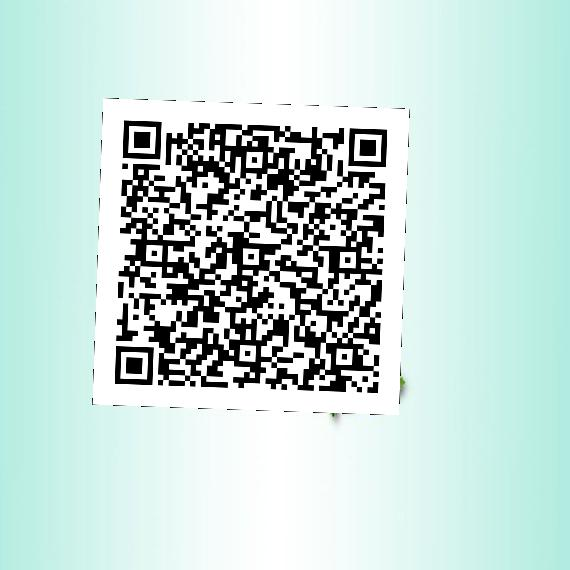qr_code: (92, 98, 409, 414)
